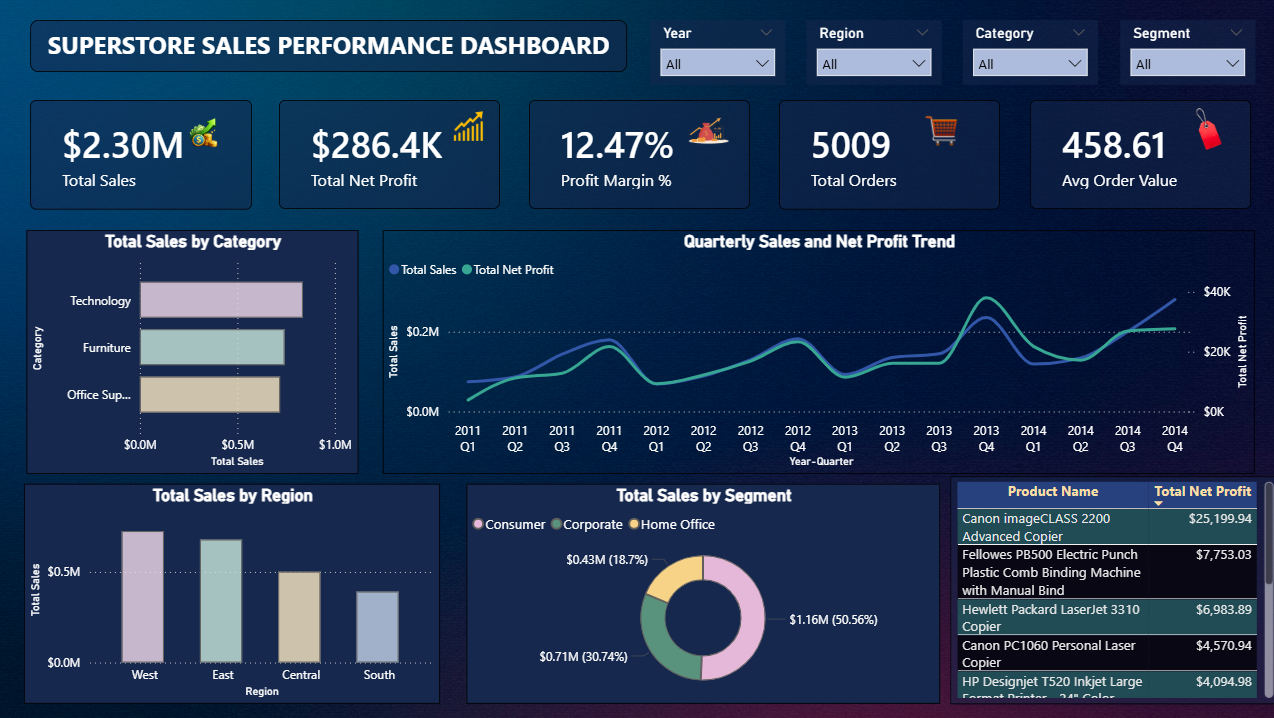

This screenshot's page, from the dashboard's own definition file:
{"tool":"powerbi","page":{"name":"Executive Overview","canvas":[1280,720],"ordinal":0},"visuals":[{"type":"cardVisual","fields":{"Data":["_Measures.Total Sales"]},"box":[31.6,99.9,222,109.8],"z":0,"group":"g1"},{"type":"tableEx","fields":{"Values":["Superstore.Product Name","_Measures.Total Net Profit"]},"box":[950.6,476.5,329.4,228],"z":0},{"type":"slicer","fields":{"Values":["Date Table.Year"]},"box":[651.2,20.5,135,65.1],"z":1000},{"type":"slicer","fields":{"Values":["Superstore.Region"]},"box":[807.7,20.5,135.1,65.1],"z":2000},{"type":"slicer","fields":{"Values":["Superstore.Category"]},"box":[964.3,20.5,135,65.1],"z":3000},{"type":"slicer","fields":{"Values":["Superstore.Segment"]},"box":[1120.8,20.5,135.1,65.1],"z":4000},{"type":"textbox","box":[31.4,20.5,597.2,51.9],"z":5000},{"type":"cardVisual","fields":{"Data":["_Measures.Total Orders"]},"box":[780.6,100.1,220.8,109.8],"z":6000},{"type":"lineChart","title":"Quarterly Sales and Net Profit Trend","fields":{"Y":["_Measures.Total Sales"],"Y2":["_Measures.Total Net Profit"],"Category":["Date Table.Year-Quarter"]},"box":[383.6,230.4,872.3,243.7],"z":7000},{"type":"image","box":[904.8,103.8,74.8,55.5],"z":8000},{"type":"cardVisual","fields":{"Data":["_Measures.Total Net Profit"]},"box":[279.9,99.9,221,109],"z":9000,"group":"g2"},{"type":"clusteredBarChart","fields":{"Category":["Superstore.Category"],"Y":["_Measures.Total Sales"]},"box":[27.7,230.4,331.8,243.7],"z":9000},{"type":"image","box":[176.1,110.7,57.9,43.4],"z":10000,"group":"g1"},{"type":"clusteredColumnChart","fields":{"Category":["Superstore.Region"],"Y":["_Measures.Total Sales"]},"box":[25,483.8,416.2,220],"z":10000},{"type":"cardVisual","fields":{"Data":["_Measures.Profit Margin %"]},"box":[529.6,99.9,221,109],"z":11000,"group":"g3"},{"type":"cardVisual","fields":{"Data":["_Measures.Avg Order Value"]},"box":[1031.5,99.9,221,109],"z":11000,"group":"g4"},{"type":"donutChart","title":"    Total Sales by Segment","fields":{"Category":["Superstore.Segment"],"Y":["_Measures.Total Sales"]},"box":[467.5,483.8,473.8,220],"z":11000},{"type":"group","id":"g1","title":"Group 1","box":[31.6,99.9,222,109.8],"z":12000},{"type":"image","box":[1176.3,104.7,67.6,49.5],"z":12000,"group":"g4"},{"type":"group","id":"g2","title":"Group 2","box":[279.9,99.9,220.8,108.6],"z":13000},{"type":"group","id":"g3","title":"Group 6","box":[529.6,99.9,221,109],"z":14000},{"type":"image","box":[447.7,109.6,43.4,32.6],"z":14000,"group":"g2"},{"type":"group","id":"g4","title":"Group 3","box":[1031.5,99.9,220.8,108.6],"z":15000},{"type":"image","box":[680.4,108.3,56.7,43.4],"z":18000,"group":"g3"}]}

Visuals, with their boxes in screenshot pixels (x1, y1, x2, y2), scaled from the page's 1280x720 canvas onto the 1274x718 screenshot:
cardVisual - _Measures.Total Sales: bbox=[31, 100, 252, 209]
tableEx - Superstore.Product Name x _Measures.Total Net Profit: bbox=[946, 475, 1273, 703]
slicer - Date Table.Year: bbox=[648, 20, 783, 85]
slicer - Superstore.Region: bbox=[804, 20, 938, 85]
slicer - Superstore.Category: bbox=[960, 20, 1094, 85]
slicer - Superstore.Segment: bbox=[1116, 20, 1250, 85]
textbox: bbox=[31, 20, 626, 72]
cardVisual - _Measures.Total Orders: bbox=[777, 100, 997, 209]
"Quarterly Sales and Net Profit Trend" lineChart: bbox=[382, 230, 1250, 473]
image: bbox=[901, 104, 975, 159]
cardVisual - _Measures.Total Net Profit: bbox=[279, 100, 499, 208]
clusteredBarChart - Superstore.Category x _Measures.Total Sales: bbox=[28, 230, 358, 473]
image: bbox=[175, 110, 233, 154]
clusteredColumnChart - Superstore.Region x _Measures.Total Sales: bbox=[25, 482, 439, 702]
cardVisual - _Measures.Profit Margin %: bbox=[527, 100, 747, 208]
cardVisual - _Measures.Avg Order Value: bbox=[1027, 100, 1247, 208]
"    Total Sales by Segment" donutChart: bbox=[465, 482, 937, 702]
"Group 1" group: bbox=[31, 100, 252, 209]
image: bbox=[1171, 104, 1238, 154]
"Group 2" group: bbox=[279, 100, 498, 208]
"Group 6" group: bbox=[527, 100, 747, 208]
image: bbox=[446, 109, 489, 142]
"Group 3" group: bbox=[1027, 100, 1246, 208]
image: bbox=[677, 108, 734, 151]
